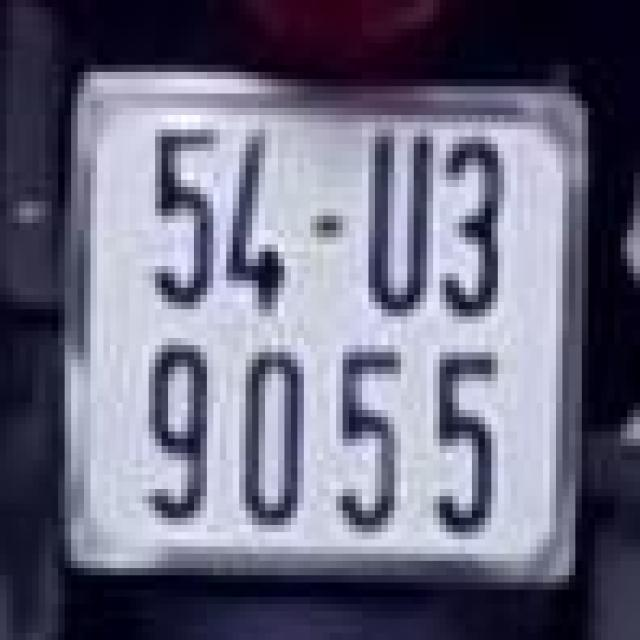0: (227, 338, 310, 532)
3: (439, 133, 524, 327)
4: (223, 119, 294, 327)
5: (420, 334, 511, 550), (323, 331, 408, 539), (148, 122, 220, 316)
9: (139, 334, 210, 522)
U: (368, 126, 439, 334)
